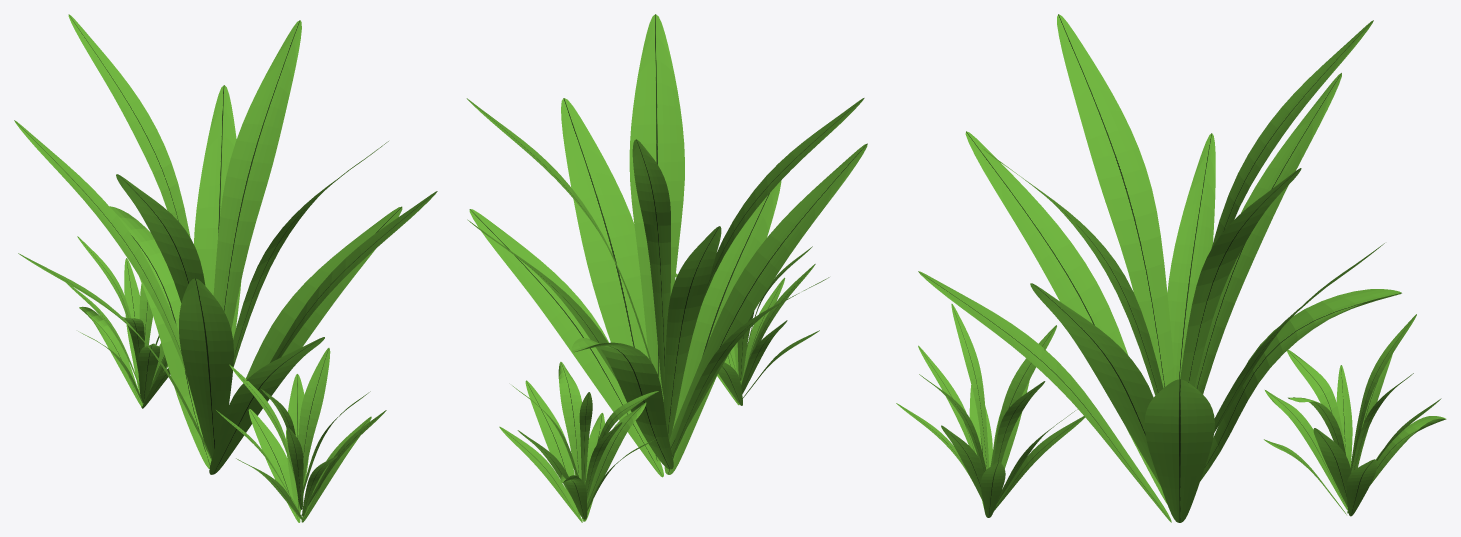
Rendered from rumput2.fbx.
The picture shows the model from 3 angles, left to right: view 1: azimuth 30°, elevation 25°; view 2: azimuth 150°, elevation 25°; view 3: azimuth 270°, elevation 25°; orthographic projection. The views are drawn at different scales.
Parts seen in each view (by area): view 1: Plane; view 2: Plane; view 3: Plane.
Part boxes in pixels (x1,y1,x2,y2): Plane: (14,14,437,522); Plane: (466,14,867,522); Plane: (896,14,1446,522).
Size of the model in its own units: 575 by 608 by 645.
